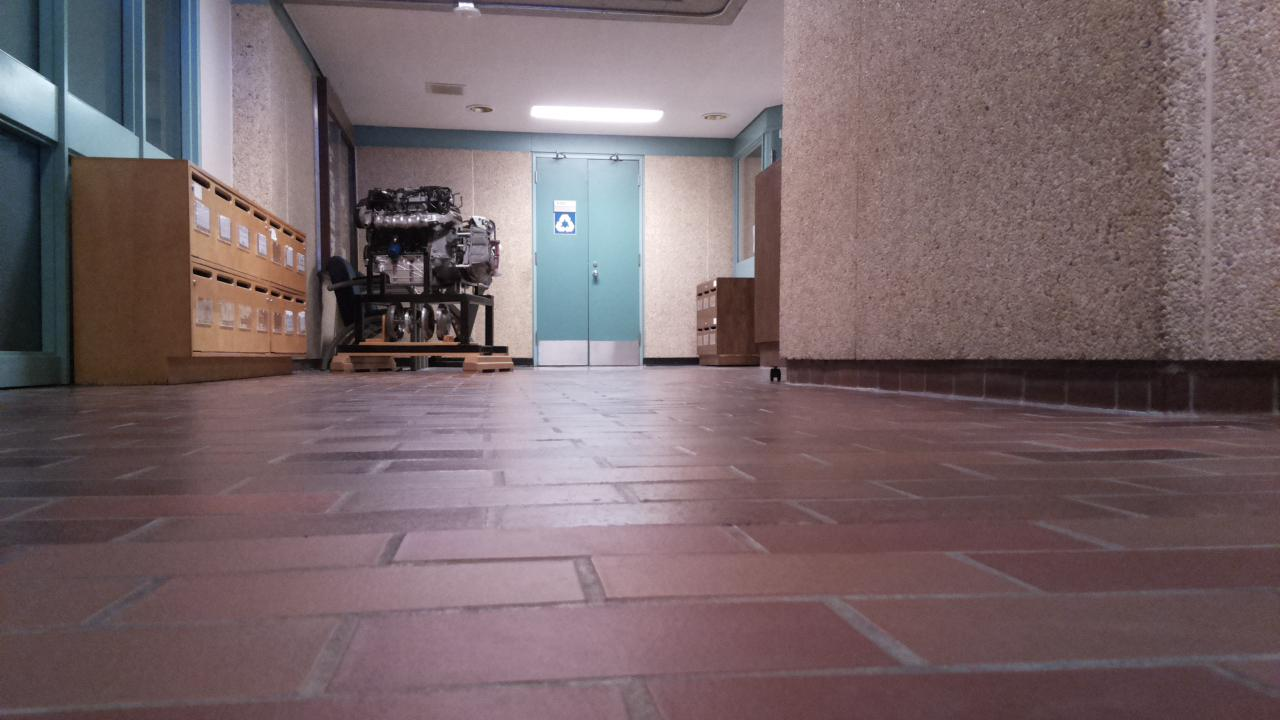door: (537, 158, 639, 365)
sign: (555, 212, 574, 233), (554, 200, 575, 211)
